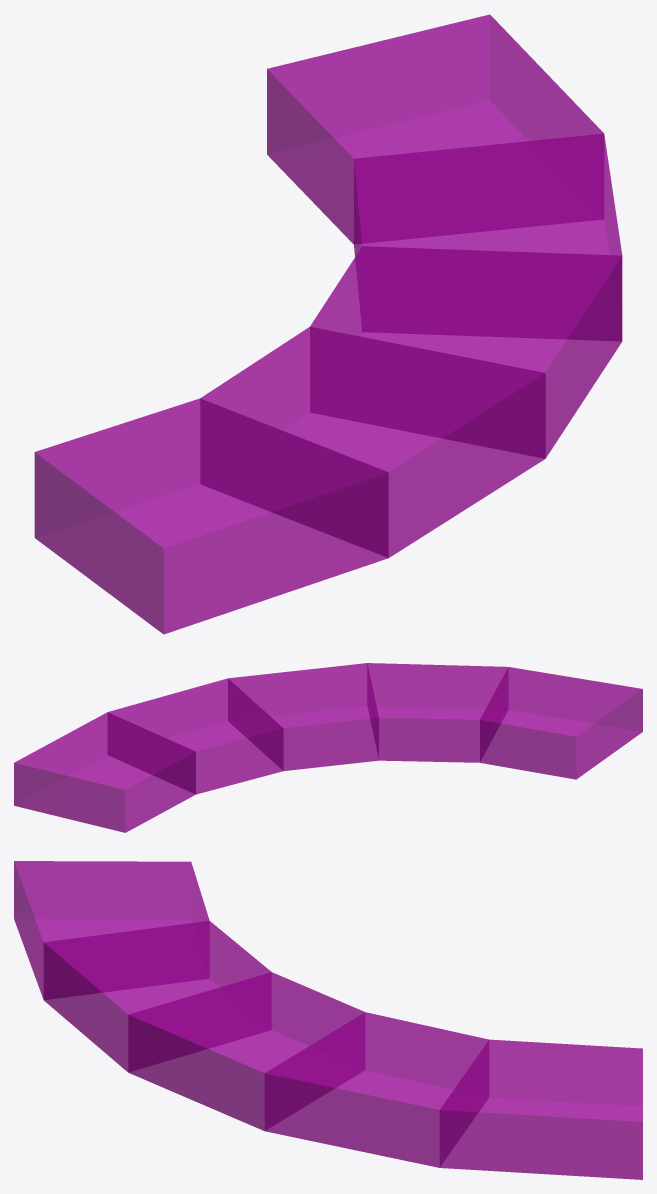
Rendered from SM_Prop_Pipe_Bend_02_Collision.fbx.
The picture shows the model from 3 angles, top to bottom: view 1: azimuth 30°, elevation 25°; view 2: azimuth 150°, elevation 25°; view 3: azimuth 270°, elevation 25°; orthographic projection. The views are drawn at different scales.
Visible parts, largest first — view 1: SM_Prop_Pipe_Bend_02_Collision; view 2: SM_Prop_Pipe_Bend_02_Collision; view 3: SM_Prop_Pipe_Bend_02_Collision.
Part boxes in pixels (x1,y1,x2,y2): SM_Prop_Pipe_Bend_02_Collision: (34, 14, 622, 634); SM_Prop_Pipe_Bend_02_Collision: (14, 663, 642, 832); SM_Prop_Pipe_Bend_02_Collision: (14, 861, 642, 1179).
Size of the model in its own units: 148 by 15.3 by 150.
